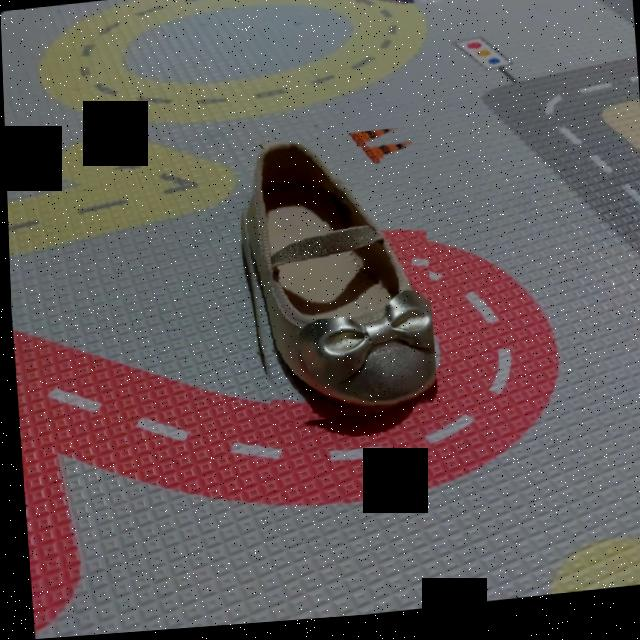shoe: (231, 131, 435, 433)
